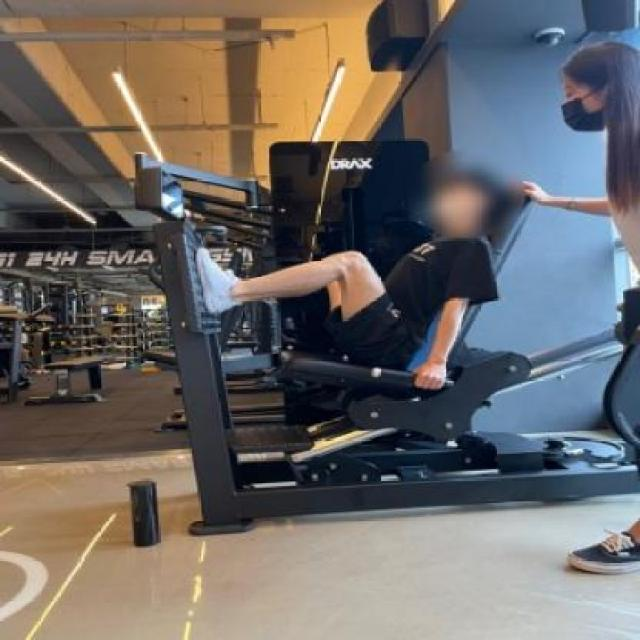leg press: (38, 111, 640, 549)
